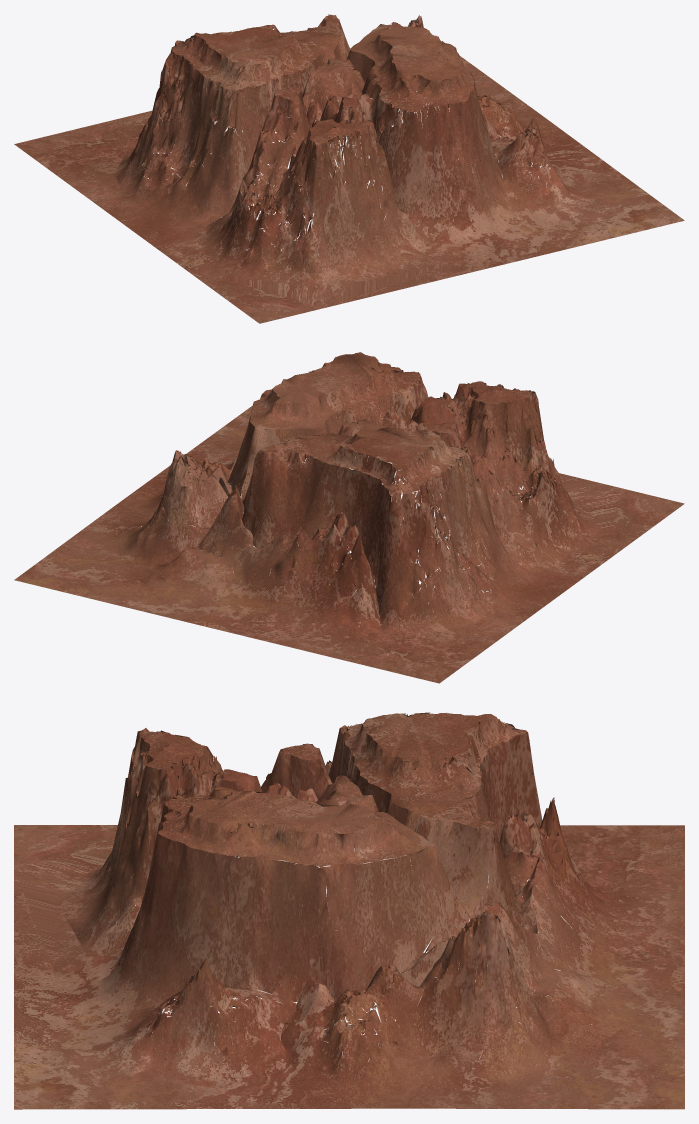
File: ap_modular_wadi_desert_rock2_lo.gltf
3 views of the same model, one above another, from view 1: azimuth 30°, elevation 25°; view 2: azimuth 150°, elevation 25°; view 3: azimuth 270°, elevation 25° (orthographic). The views are drawn at different scales.
Parts seen in each view (by area): view 1: ap_modular_wadi_desert_rock2; view 2: ap_modular_wadi_desert_rock2; view 3: ap_modular_wadi_desert_rock2.
Boxes of the visible parts, x1=… form: ap_modular_wadi_desert_rock2: x1=14, y1=14, x2=684, y2=323; ap_modular_wadi_desert_rock2: x1=14, y1=352, x2=684, y2=683; ap_modular_wadi_desert_rock2: x1=14, y1=712, x2=684, y2=1109.
Size of the model in its own units: 24.12 by 7.4 by 24.12.
Materials: 1 (1 with a texture image).
